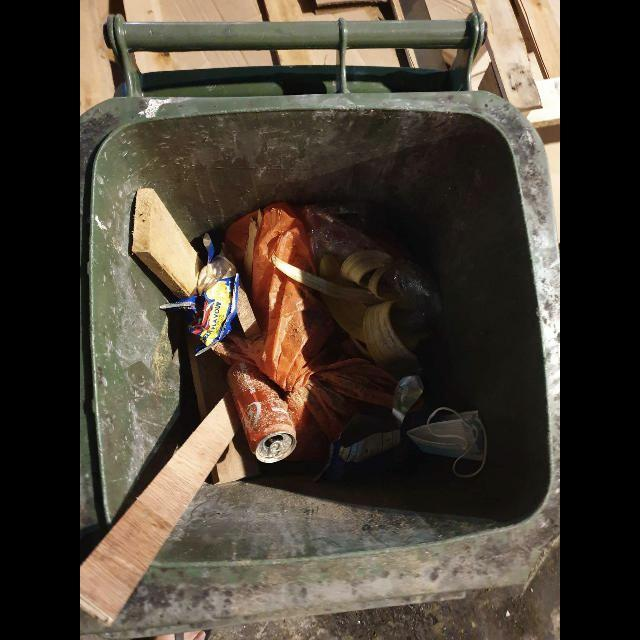aluminum: (227, 362, 297, 464)
food_wrapper: (319, 376, 424, 480), (160, 233, 239, 354)
